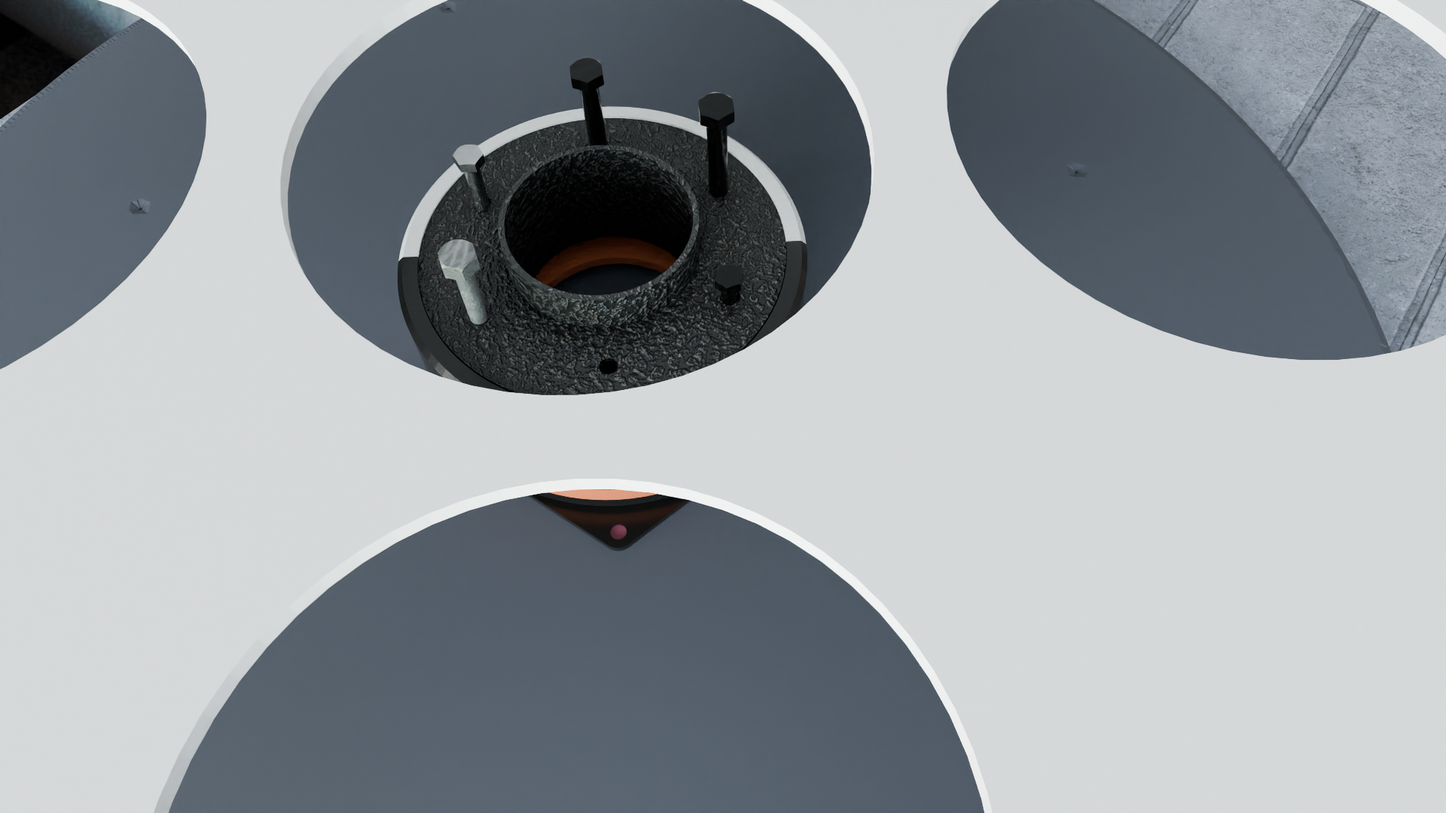bolt: (438, 239, 477, 272), (698, 92, 734, 120), (569, 57, 602, 83), (715, 264, 743, 289), (453, 145, 484, 165)
